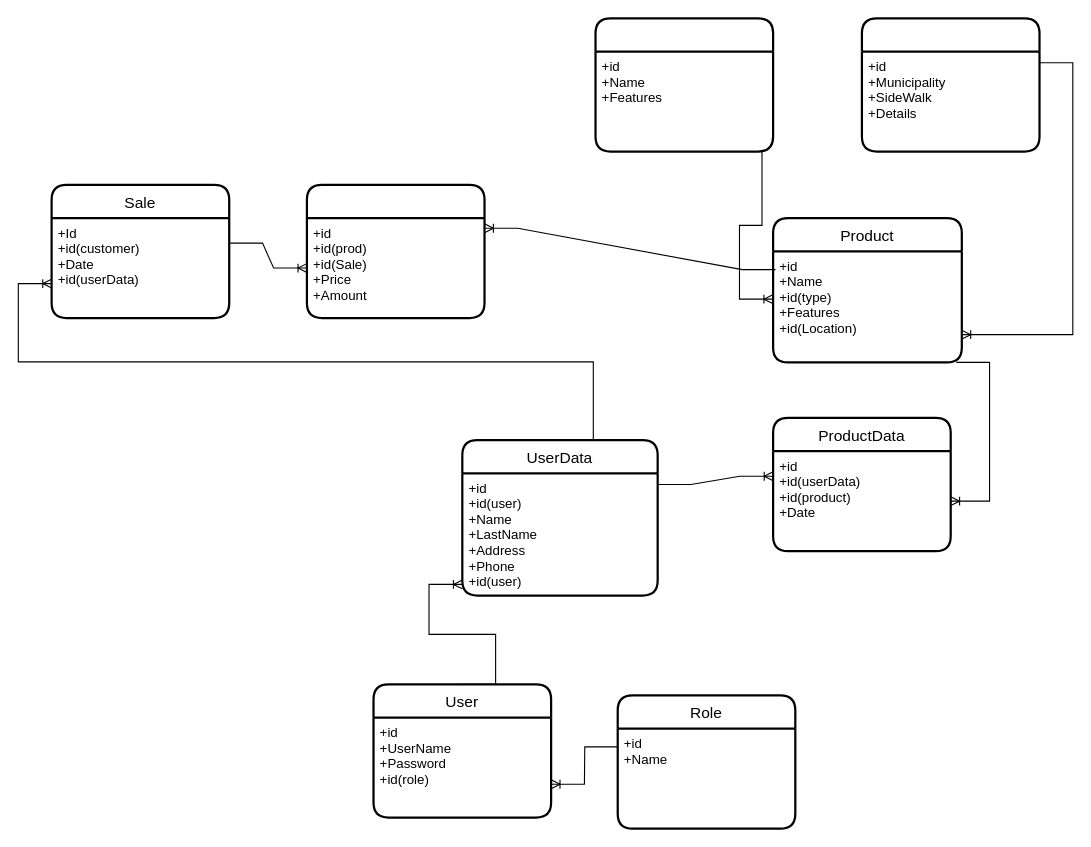
Some shapes in this 1091 by 847 pixel diagram are drawn without their labels. Each missing label, with the box of its shape:
Location: (860, 17, 1040, 152)
ProductType: (594, 17, 774, 152)
SaleDetail: (305, 183, 485, 319)
